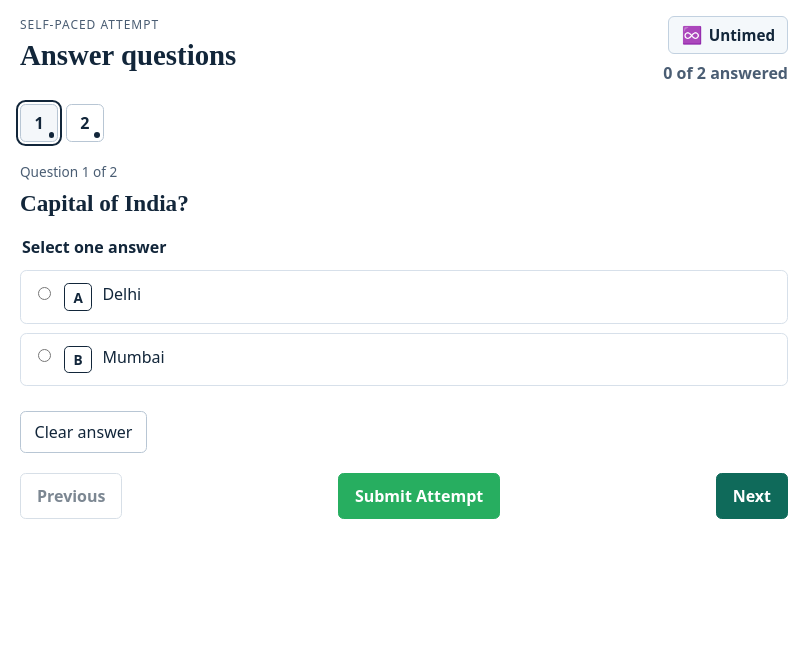
Test: AttemptPlayer integration flow › surfaces terminal-attempt autosave rejection and disables further edits
Click the radio button labelled "A Delhi": click(44, 293) top-left (38, 287), bottom-right (51, 300)
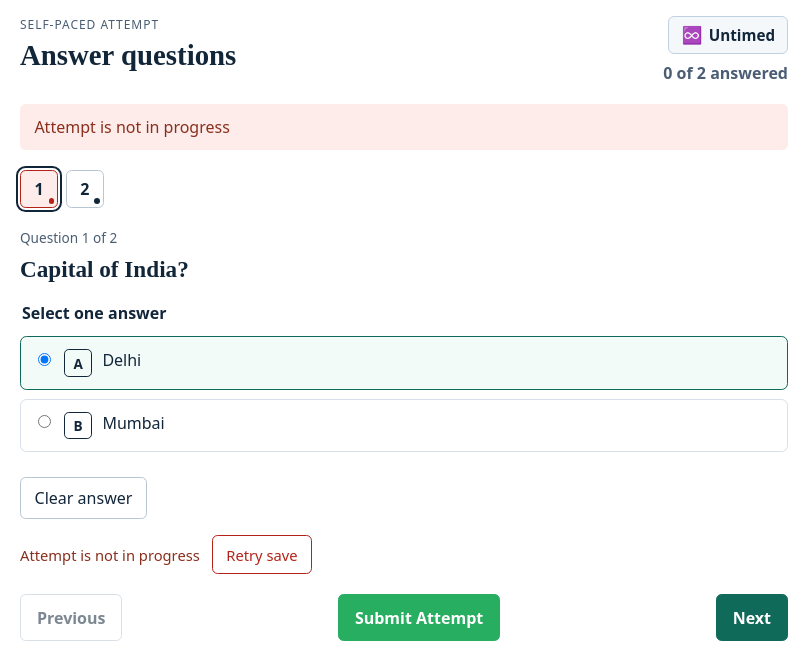
Expected: the message with class "attempt-player__terminal" shows "not in progress", top-left (34, 116), bottom-right (230, 138)
